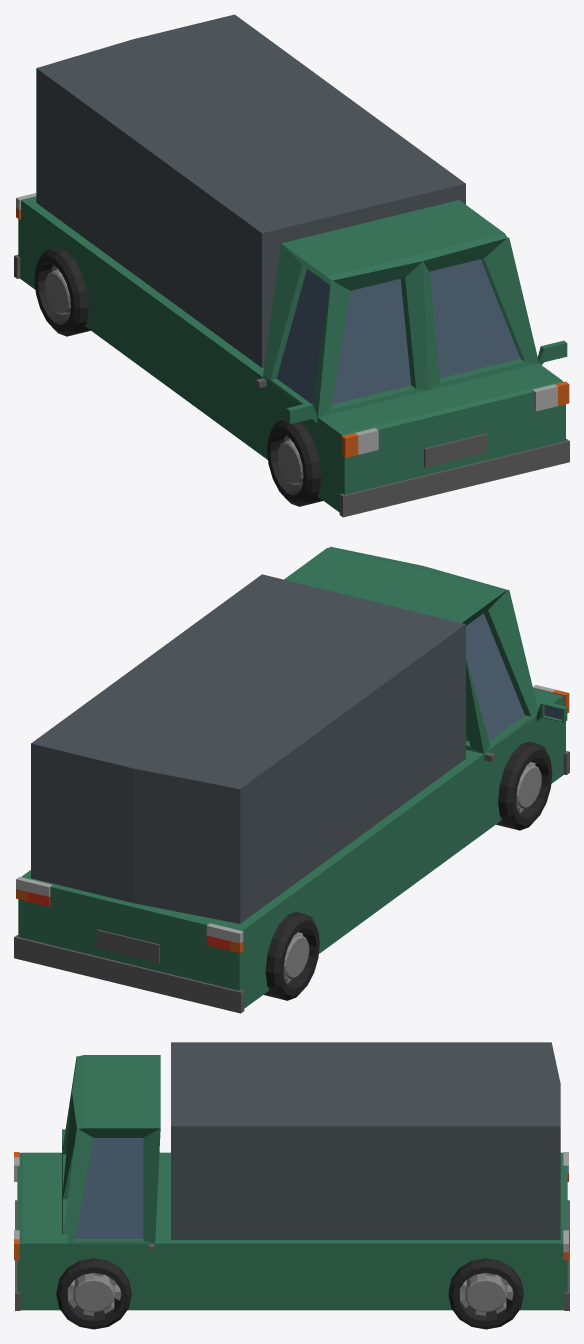
Rendered from GreenTruck.fbx.
3 renders of one model, top to bottom at view 1: azimuth 30°, elevation 25°; view 2: azimuth 150°, elevation 25°; view 3: azimuth 270°, elevation 25°, orthographic. The views are drawn at different scales.
Parts seen in each view (by area): view 1: GreenTruck; view 2: GreenTruck; view 3: GreenTruck.
Boxes of the visible parts, x1,y1,x2,y2 form: GreenTruck: (14,14,569,517); GreenTruck: (14,546,569,1013); GreenTruck: (14,1042,569,1329).
Size of the model in its own units: 216 by 173 by 444.
